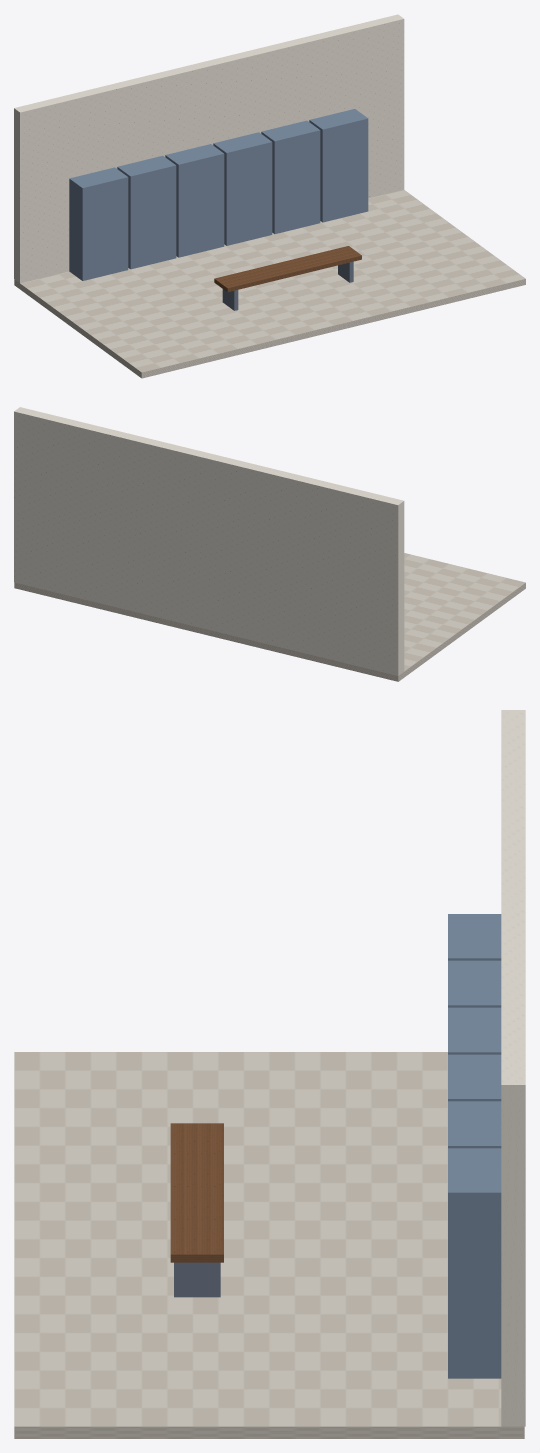
Rendered from ch5_env_school_locker_area.glb.
3 views of the same model, one above another, from view 1: azimuth 30°, elevation 25°; view 2: azimuth 150°, elevation 25°; view 3: azimuth 270°, elevation 25° (orthographic). The views are drawn at different scales.
Visible parts, largest first — view 1: ch5_env_school_locker_area; view 2: ch5_env_school_locker_area; view 3: ch5_env_school_locker_area.
Part boxes in pixels (x1,y1,x2,y2): ch5_env_school_locker_area: (14, 14, 525, 378); ch5_env_school_locker_area: (14, 407, 525, 681); ch5_env_school_locker_area: (14, 710, 525, 1438).
Bounding box in the file's own units: 8 × 3.52 × 4.61.
5 materials, 4 textured.
